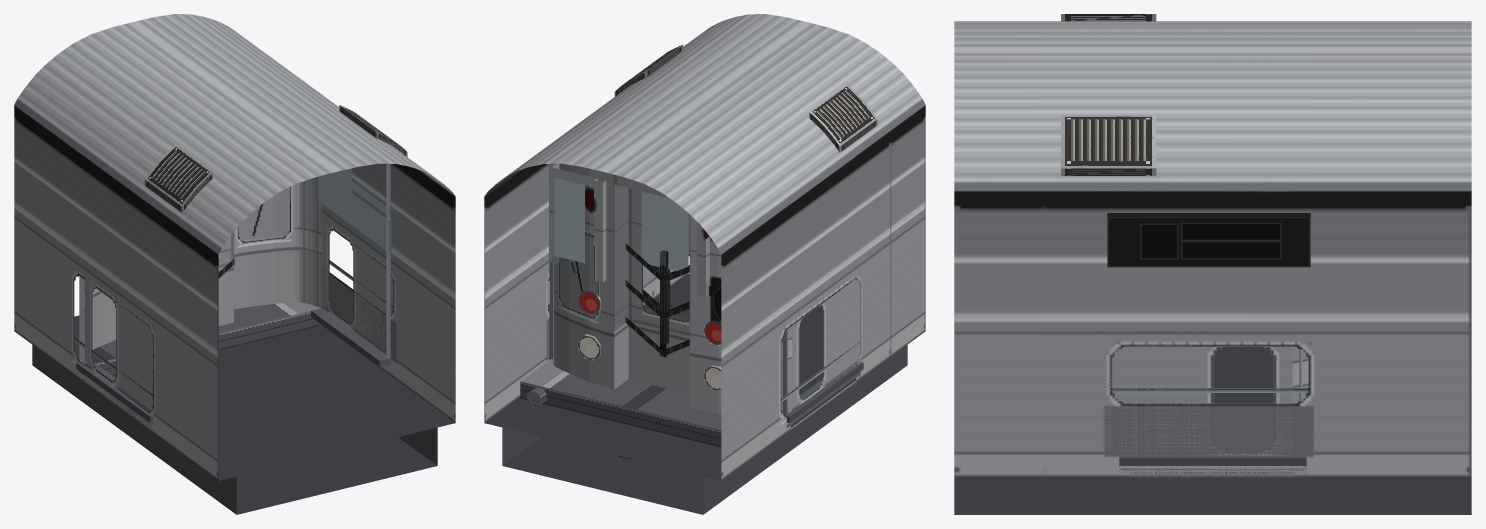
3 renders of one model, left to right at view 1: azimuth 30°, elevation 25°; view 2: azimuth 150°, elevation 25°; view 3: azimuth 270°, elevation 25°, orthographic. The views are drawn at different scales.
Parts seen in each view (by area): view 1: panel_exterior, end_exterior, door_exterior, end_blind_exterior; view 2: panel_exterior, end_exterior, door_exterior, end_blind_exterior, headlights, tail_lights; view 3: panel_exterior, end_exterior, door_exterior.
Boxes of the visible parts, <box> form: panel_exterior: <box>14,14,455,514</box>; end_exterior: <box>74,66,420,489</box>; door_exterior: <box>76,61,390,430</box>; end_blind_exterior: <box>238,187,289,241</box>; panel_exterior: <box>484,14,925,514</box>; end_exterior: <box>520,39,891,462</box>; door_exterior: <box>549,61,863,466</box>; end_blind_exterior: <box>559,233,597,316</box>; headlights: <box>578,336,721,390</box>; tail_lights: <box>578,290,721,344</box>; panel_exterior: <box>954,21,1471,514</box>; end_exterior: <box>1041,14,1308,514</box>; door_exterior: <box>1119,21,1306,514</box>.
Size of the model in its own units: 2.52 by 3.12 by 3.62.
